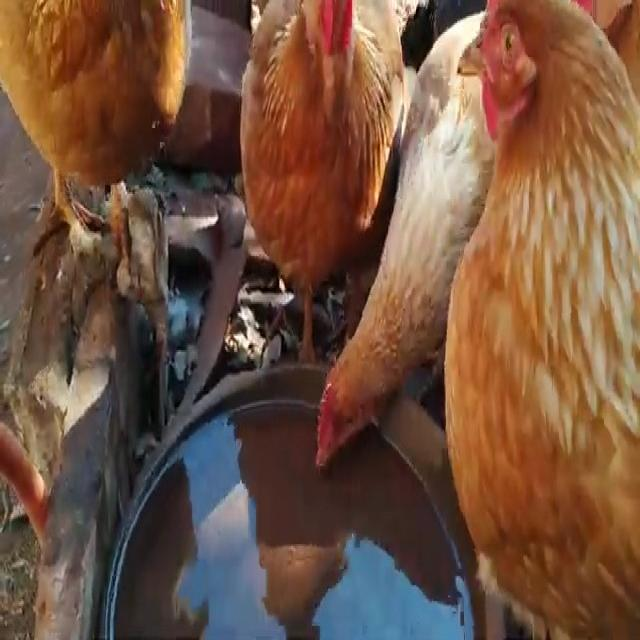drinking: (302, 9, 610, 487)
